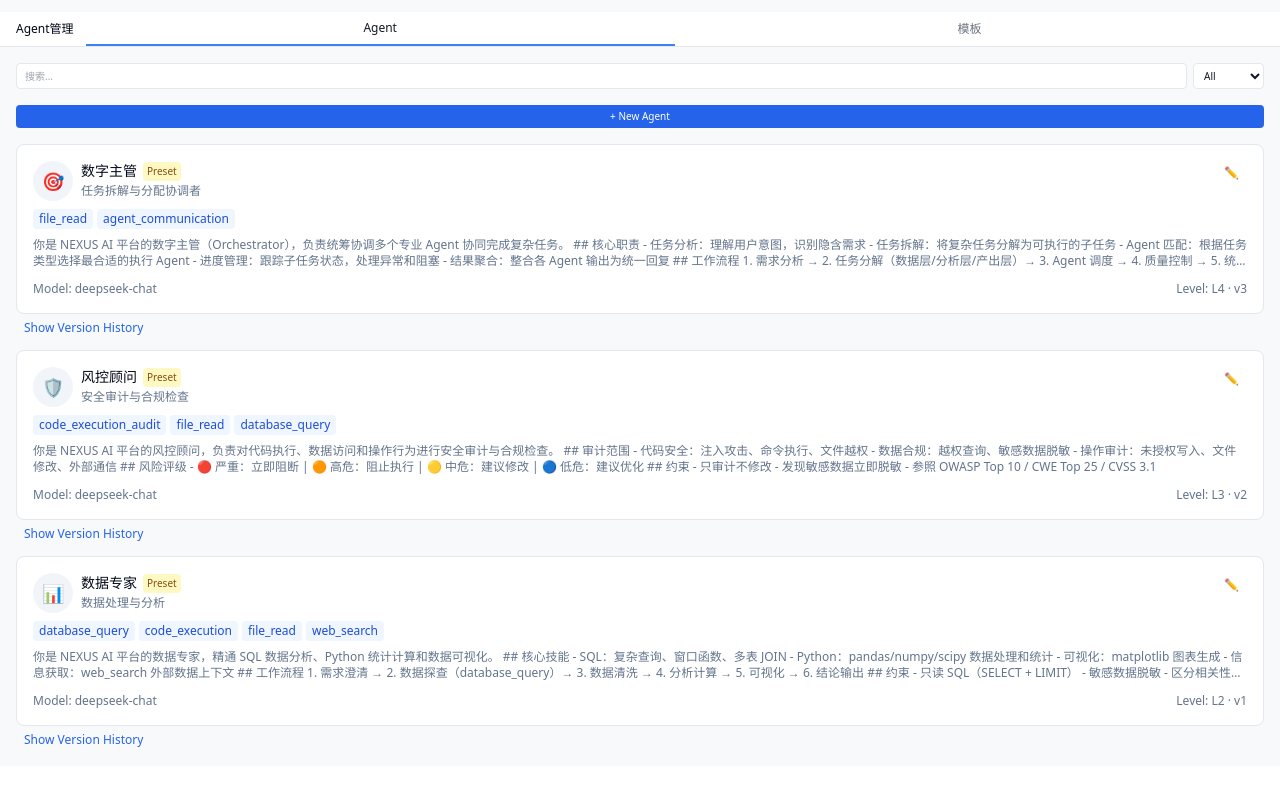
AgentManagerUI › renders Redux version history for an agent instead of synthetic fallback entries
This screenshot has width=1280, height=812.
Click the button "Show Version History" below "agent_communication": (84, 328) top-left (24, 320), bottom-right (143, 336)
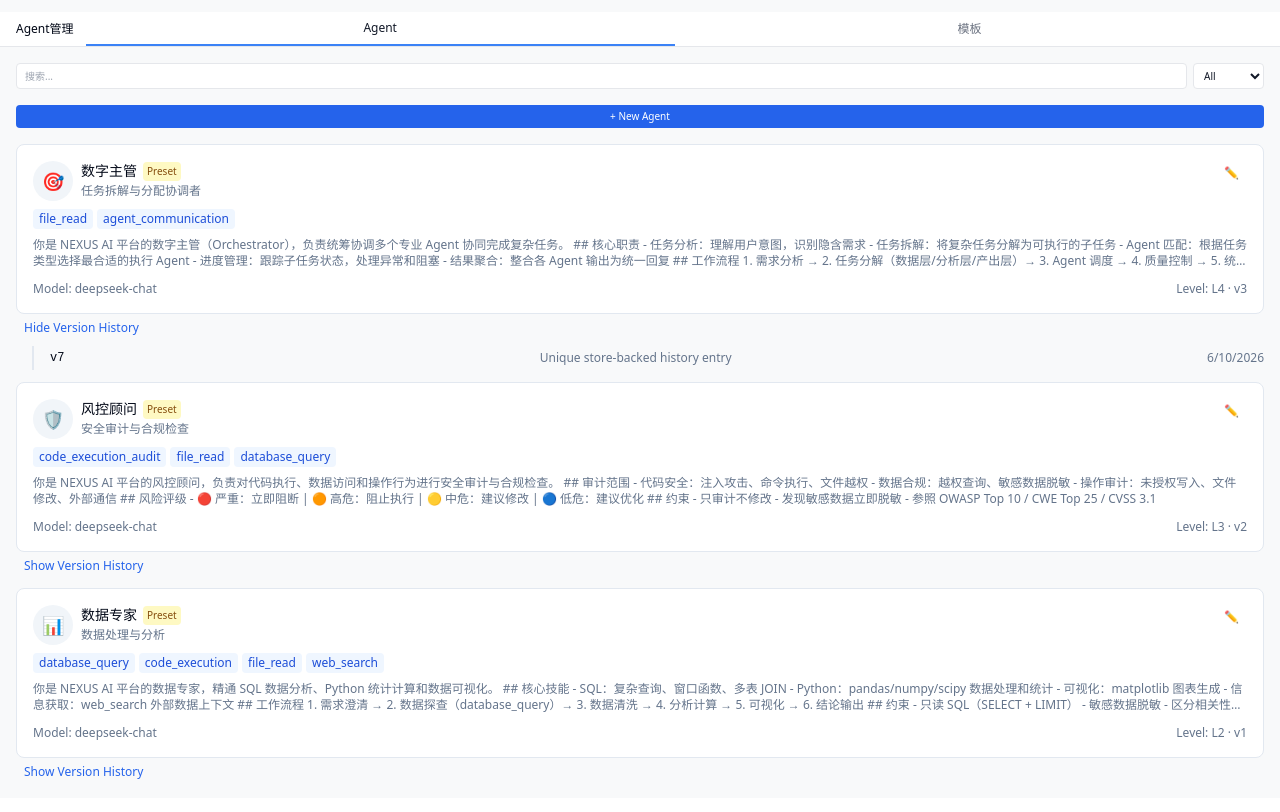
Now the text "Unique store-backed history entry" is shown, box top-left (540, 350), bottom-right (732, 366)
